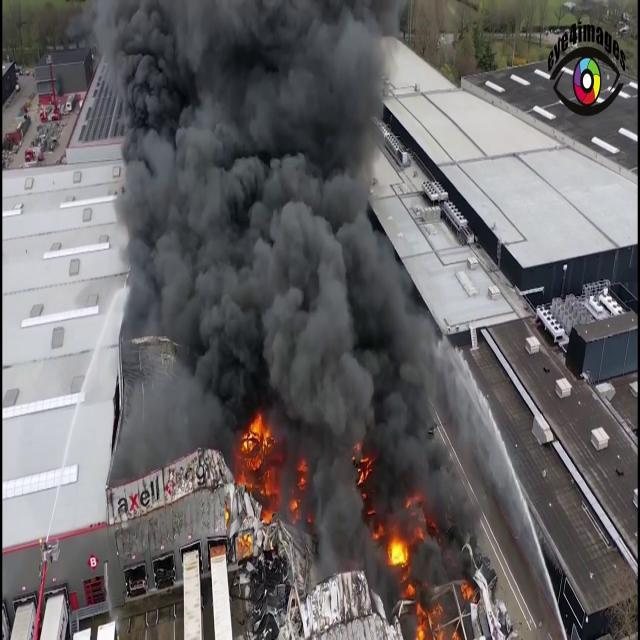Fire: (235, 406, 304, 524), (374, 488, 436, 572)
Smoke: (99, 0, 474, 567)
